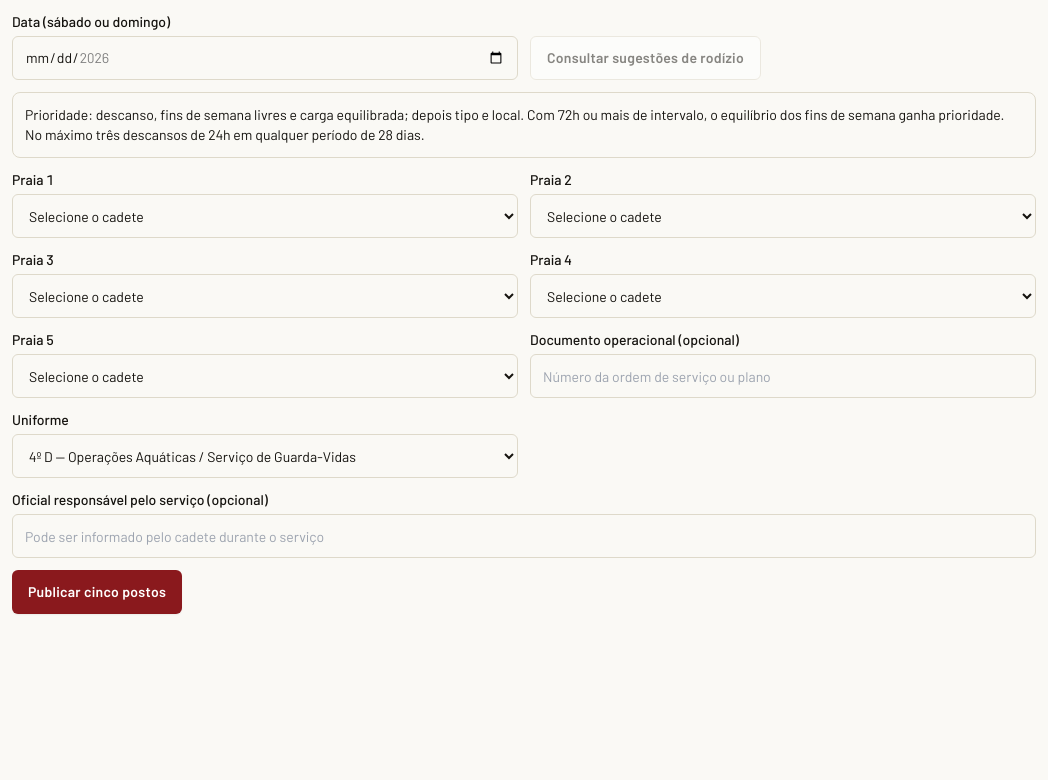
Scenario: planejamento com rodízio › explica erro de consulta sem inventar sugestões
In the date field labelled "Data (sábado ou domingo)": (265, 58) top-left (12, 36), bottom-right (518, 80), type "2026-10-10"
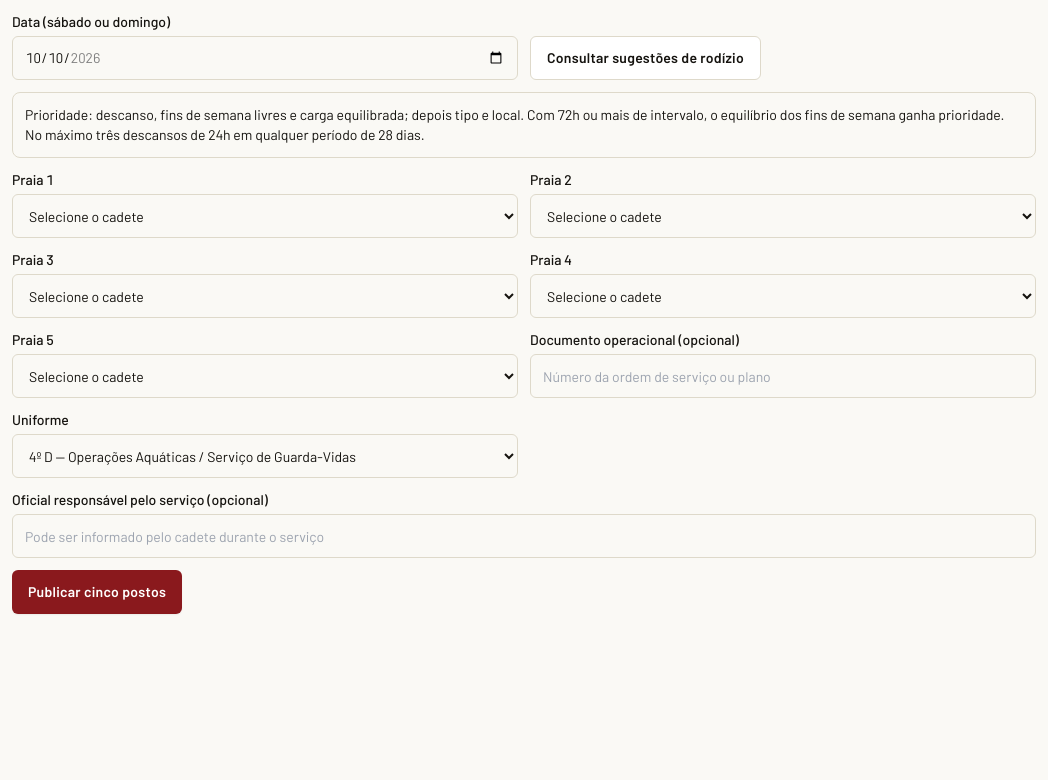
Click the button "Consultar sugestões de rodízio": (646, 58) top-left (530, 36), bottom-right (761, 80)
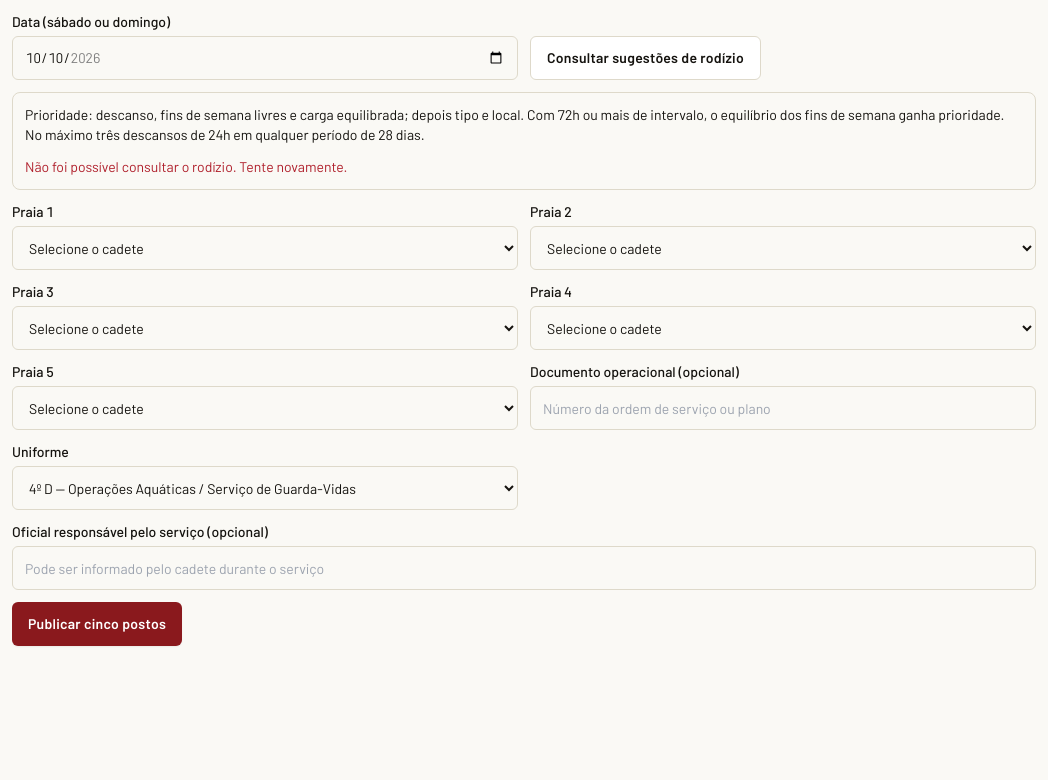
Check: the message shows "Não foi possível consultar", box top-left (25, 158), bottom-right (347, 175)
